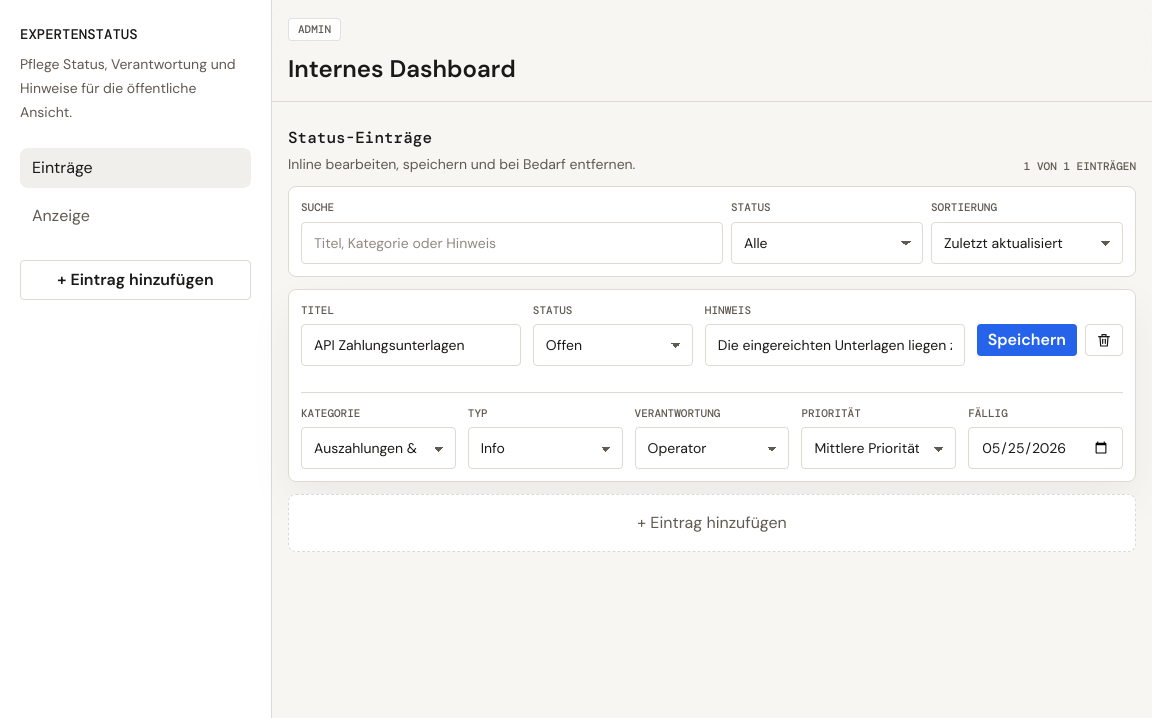
saves public display settings from the intern dashboard
The width and height of the screenshot is (1152, 718).
expect the heading "Internes Dashboard" is shown: met, box x1=288 y1=53 x2=516 y2=85
Click the button "Anzeige" at (136, 216), box x1=20 y1=196 x2=251 y2=236
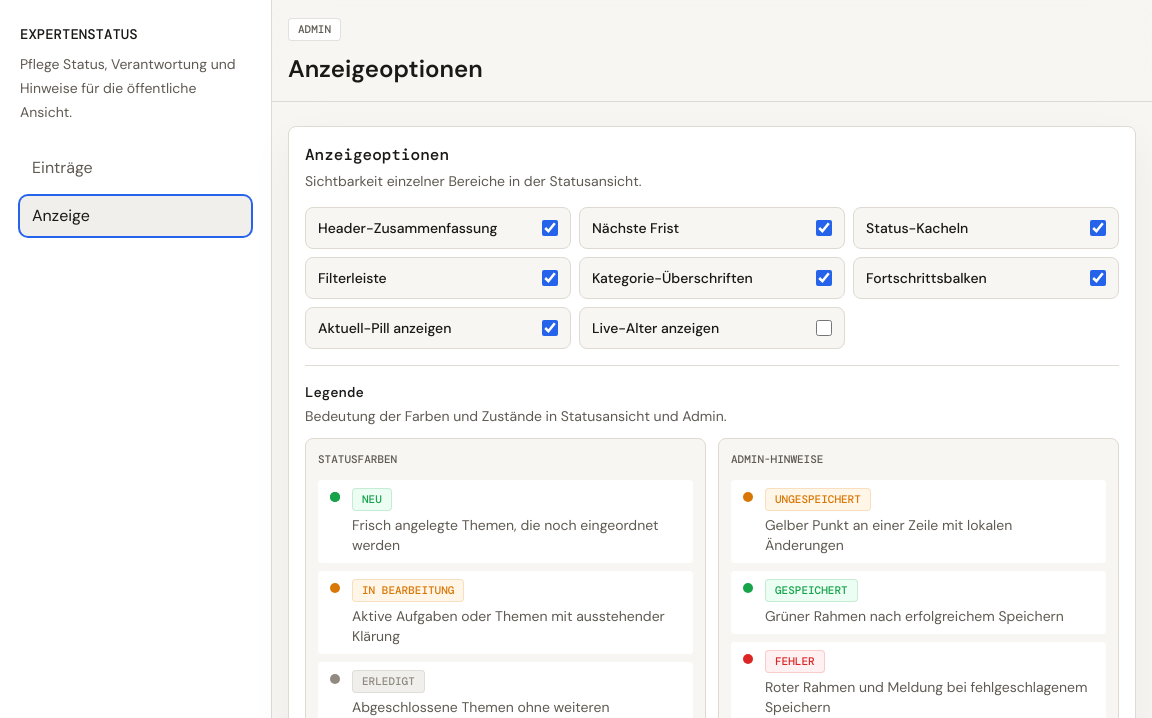
Click the checkbox labelled "Nächste Frist" at (824, 228), box x1=816 y1=220 x2=832 y2=236
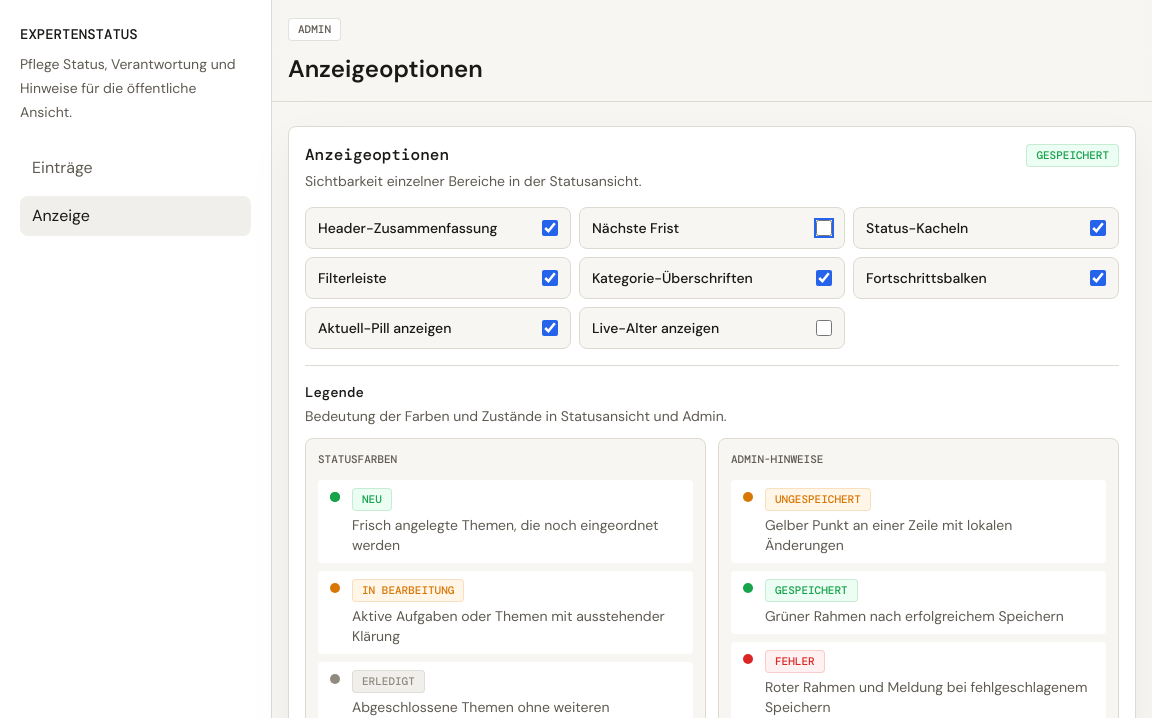
expect the text "Gespeichert" is shown 2 times: met, box x1=1026 y1=144 x2=1119 y2=166; x1=765 y1=578 x2=858 y2=602
